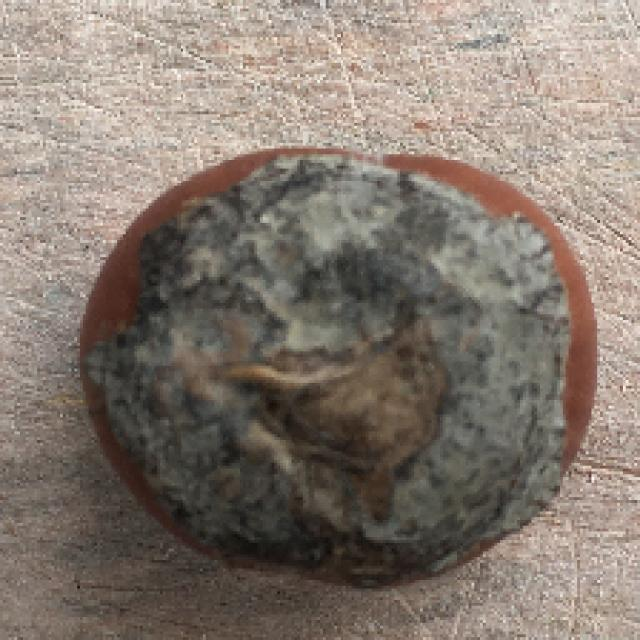DamagedHazelnut: (77, 154, 602, 590)
